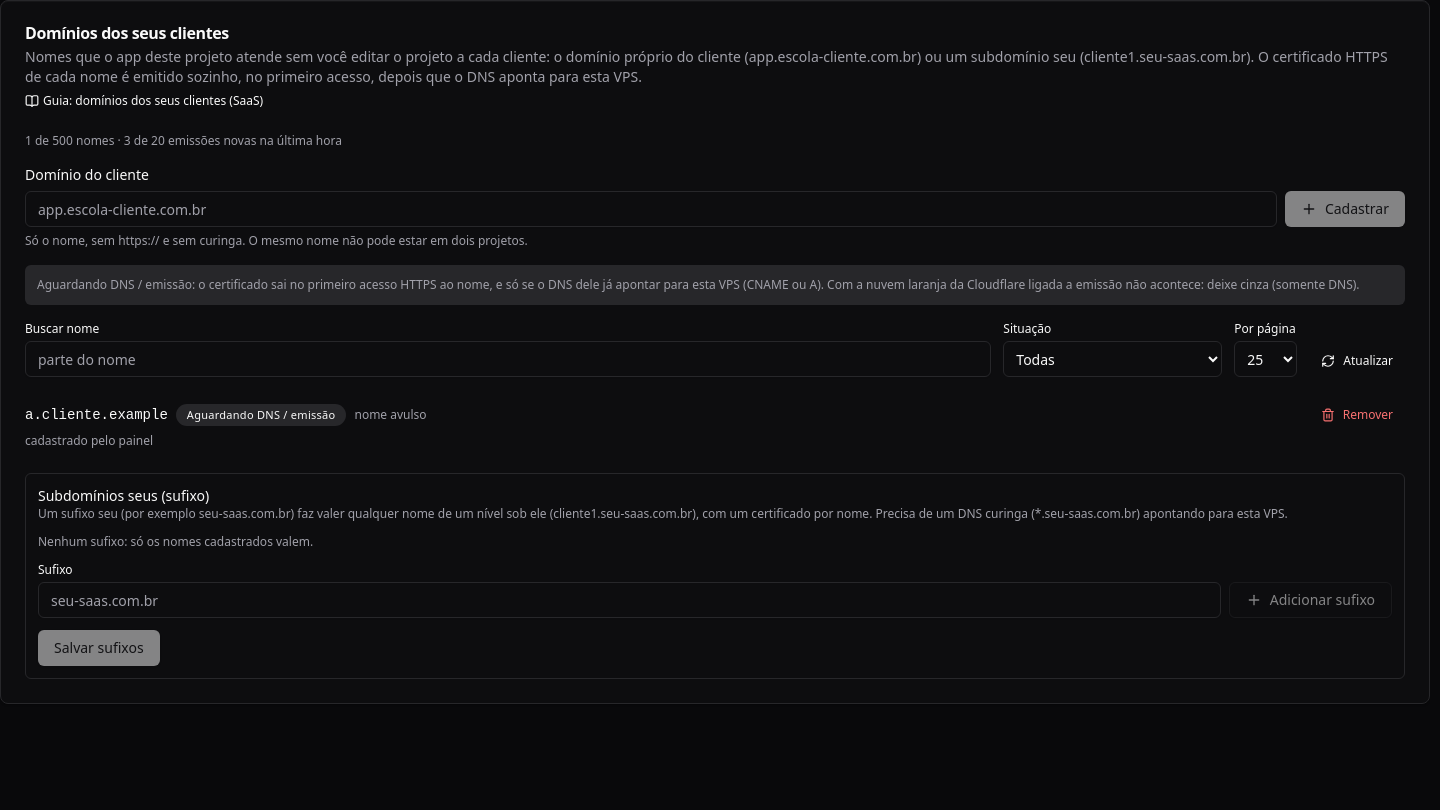
Test: Domínios dinâmicos no projeto › falha ao remover: mostra o erro e mantém o nome
Click the button with aria-label "Remover a.cliente.example": (1357, 415) left=1309, top=401, right=1405, bottom=429
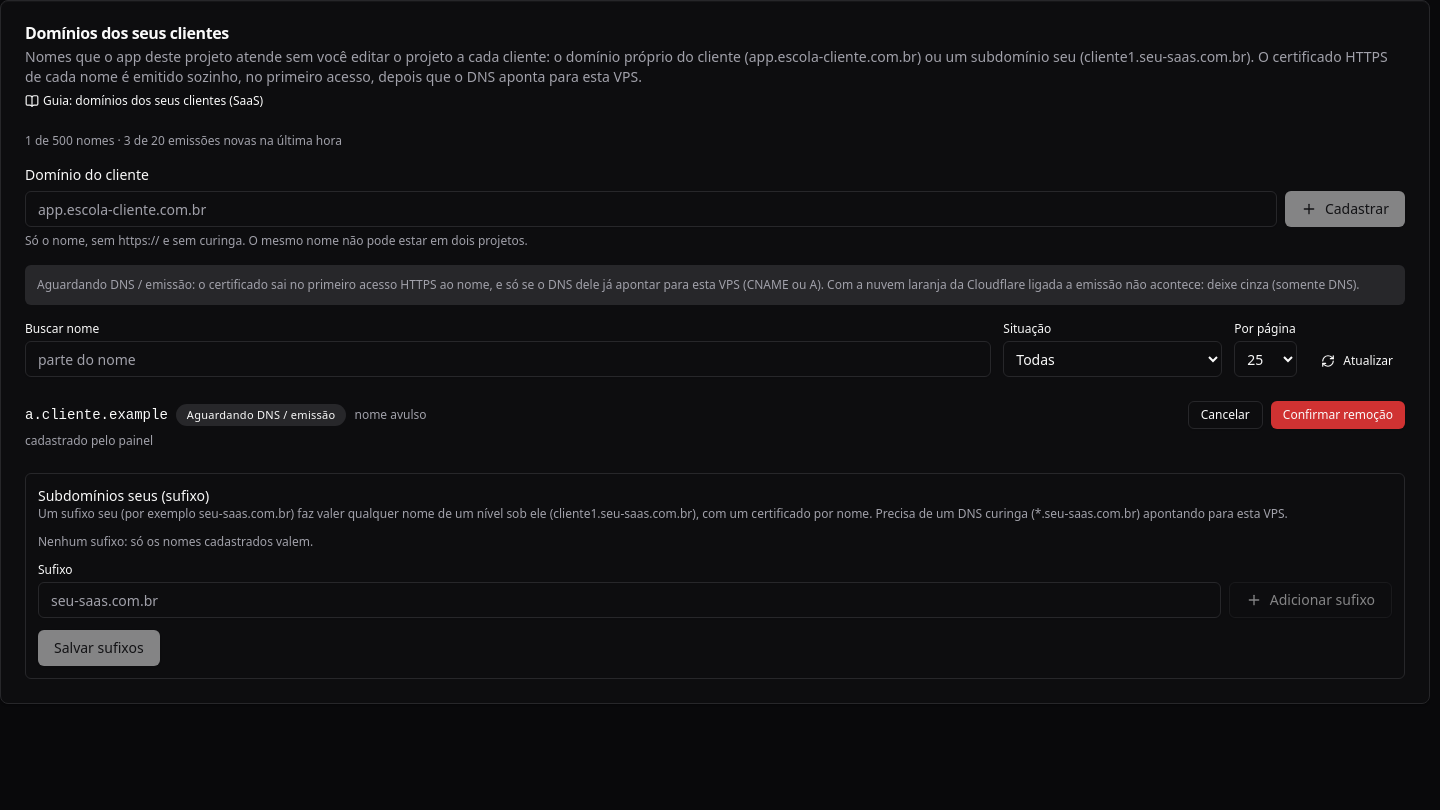
Click the button "Confirmar remoção": (1338, 415) left=1271, top=401, right=1405, bottom=429
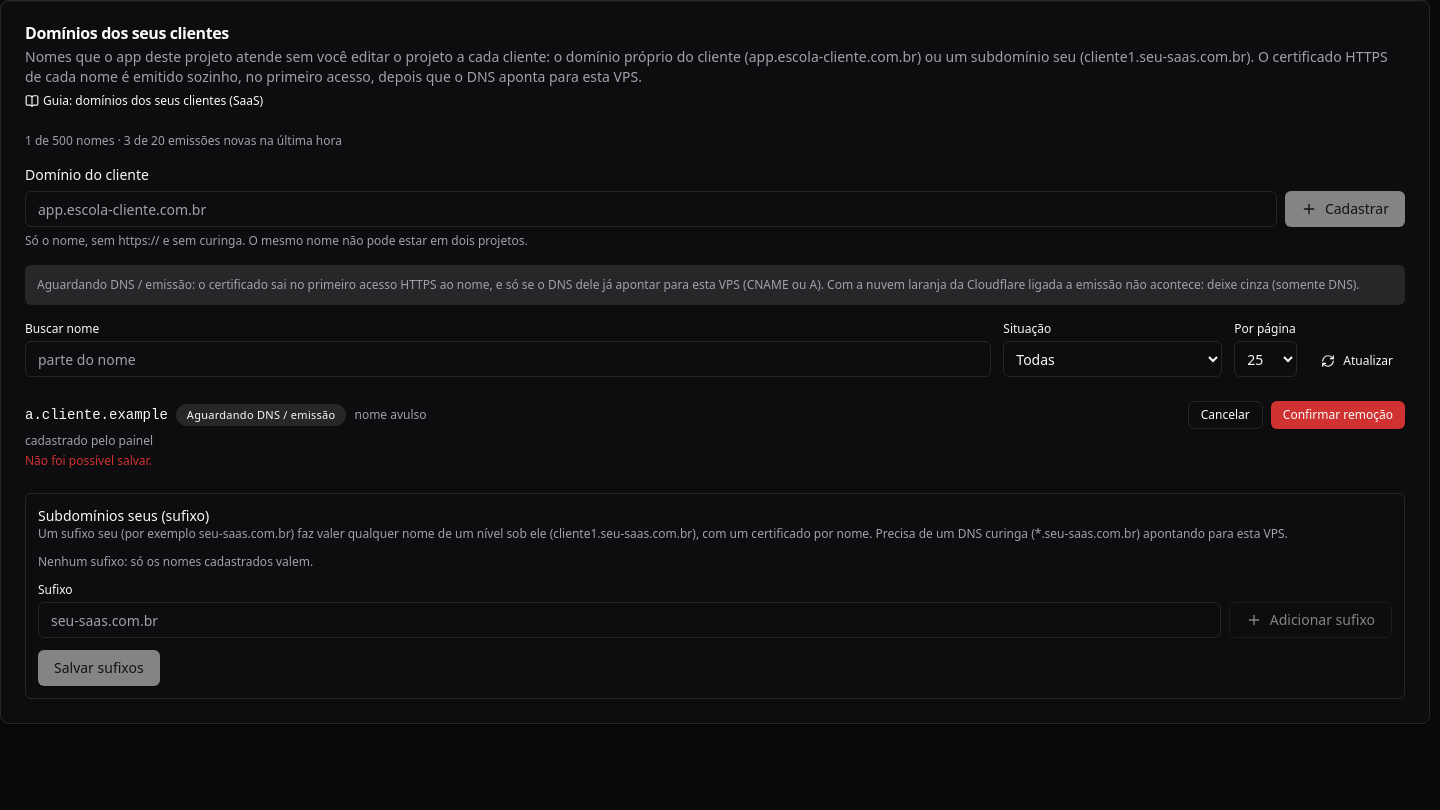
Expected: the message reads "Não foi possível salvar.", left=25, top=452, right=152, bottom=469
